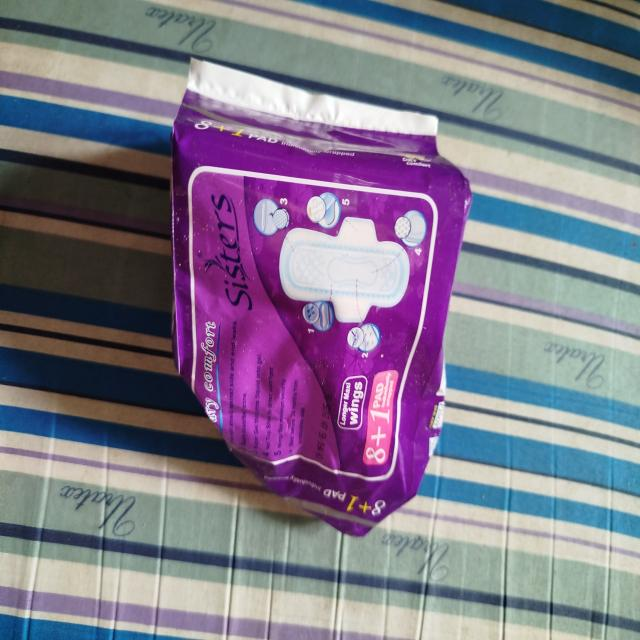residual: (160, 41, 479, 561)
